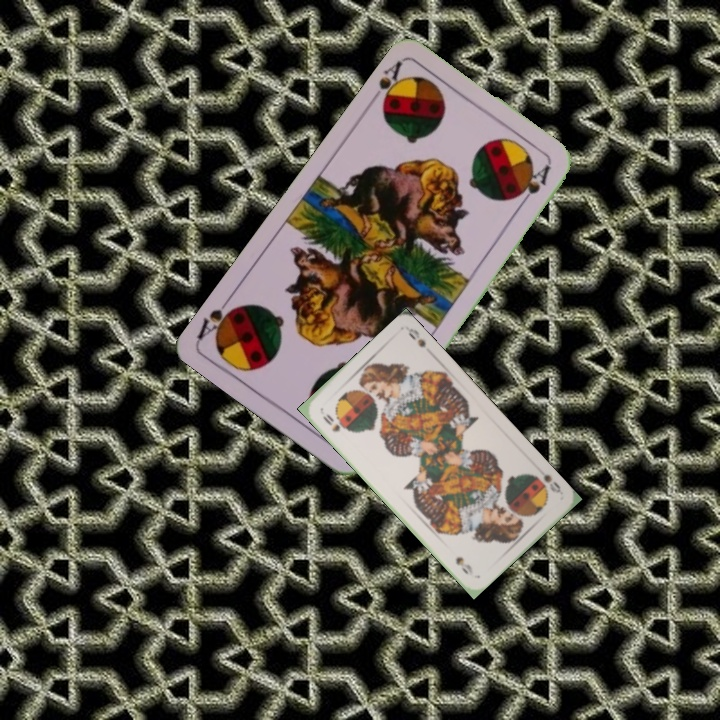SA: (365, 56, 411, 115)
SO: (539, 470, 563, 496), (318, 410, 343, 434)
